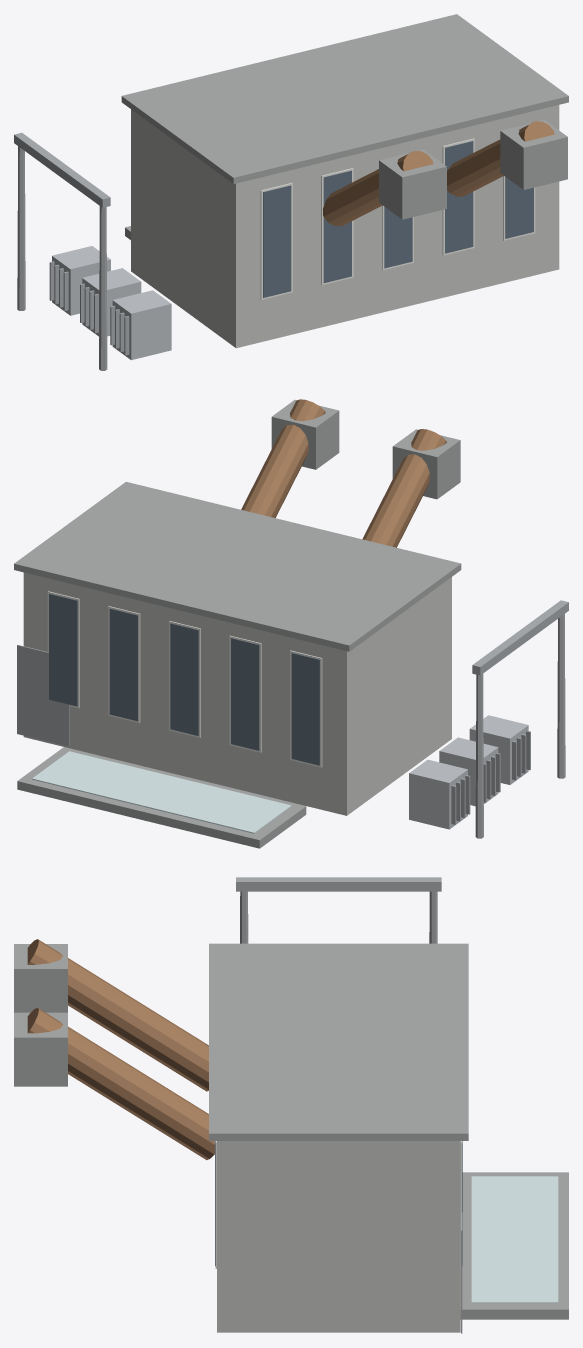
The model's file is Powerhouse.glb.
The picture shows the model from 3 angles, top to bottom: view 1: azimuth 30°, elevation 25°; view 2: azimuth 150°, elevation 25°; view 3: azimuth 270°, elevation 25°; orthographic projection. The views are drawn at different scales.
Visible parts, largest first — view 1: Hall, Roof, Anchor block.001, Anchor block, Window.001, Transformer, Limb.032, Limb.033, Window.003, Window.007, Transformer.002, Portal beam (+8 smaller); view 2: Hall, Roof, Tailrace water, Tailrace, Limb.033, Limb.032, Bay door, Window.004, Window.008, Window, Window.002, Window.006 (+12 smaller); view 3: Roof, Hall, Tailrace water, Limb.033, Limb.032, Tailrace, Anchor block.001, Anchor block, Portal beam.
Part boxes in pixels (x1,y1,x2,y2): Hall: (131,105,559,348); Roof: (121,14,568,184); Anchor block.001: (500,120,567,189); Anchor block: (379,149,446,219); Window.001: (263,185,291,297); Transformer: (112,290,171,360); Limb.032: (323,151,433,226); Limb.033: (447,121,554,196); Window.003: (323,170,351,282); Window.007: (445,141,473,253); Transformer.002: (52,246,110,315); Portal beam: (14,132,110,207); Hall: (23,572,451,815); Roof: (14,482,461,651); Tailrace water: (32,751,291,833); Tailrace: (17,747,306,848); Limb.033: (241,399,325,517); Limb.032: (362,429,446,547); Bay door: (17,644,69,746); Window.004: (170,623,198,735); Window.008: (49,594,77,706); Window: (291,653,319,765); Window.002: (231,638,259,750); Window.006: (109,608,137,721); Roof: (209,943,468,1140); Hall: (217,1141,460,1332); Tailrace water: (471,1176,558,1303); Limb.033: (27,1008,214,1160); Limb.032: (27,939,208,1091); Tailrace: (460,1172,568,1319); Anchor block.001: (14,1012,67,1086); Anchor block: (14,944,67,1012); Portal beam: (236,877,441,891).
Size of the model in its own units: 22.5 by 11.22 by 20.5.
